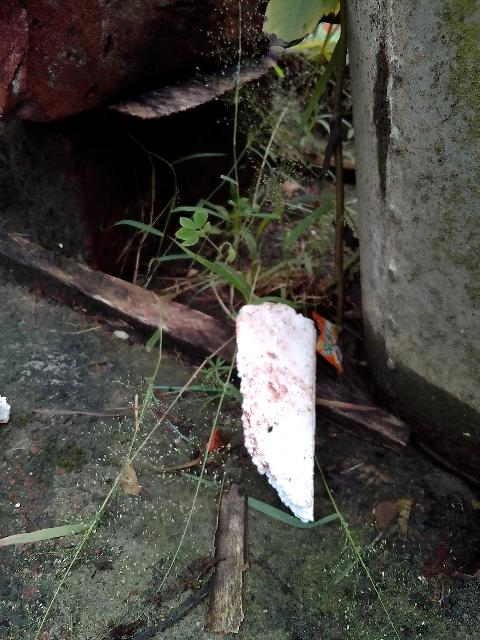cocksheet: (220, 303, 325, 514)
